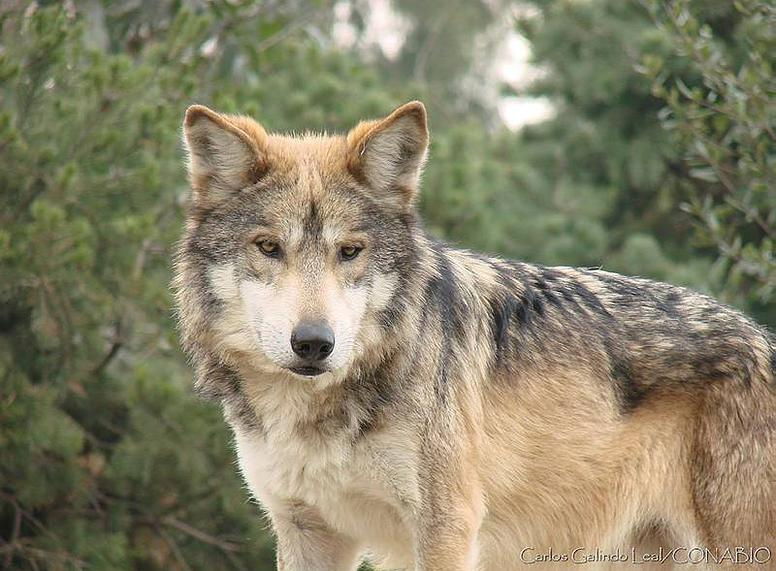Lobo: (125, 80, 724, 549)
